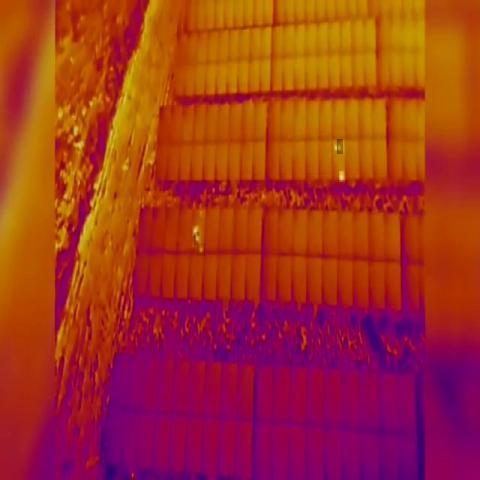fault: (197, 243, 205, 256), (338, 139, 344, 154), (194, 232, 200, 245), (340, 171, 346, 182), (192, 226, 198, 236), (333, 140, 337, 153)
